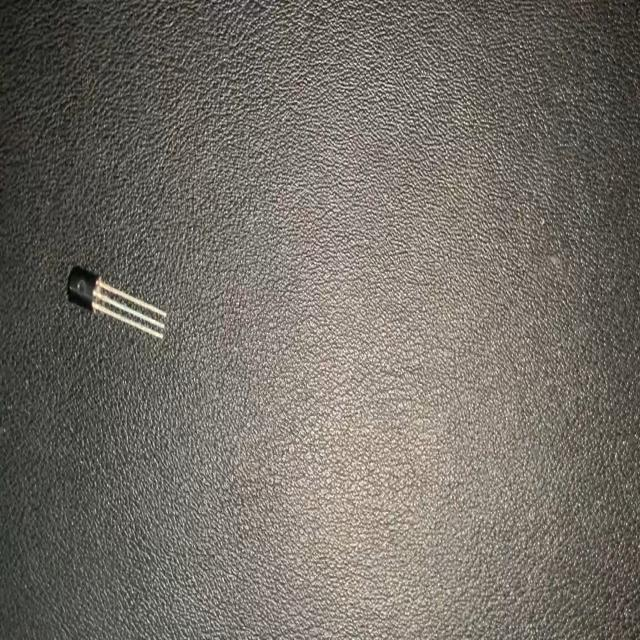BJT: (64, 260, 171, 347)
